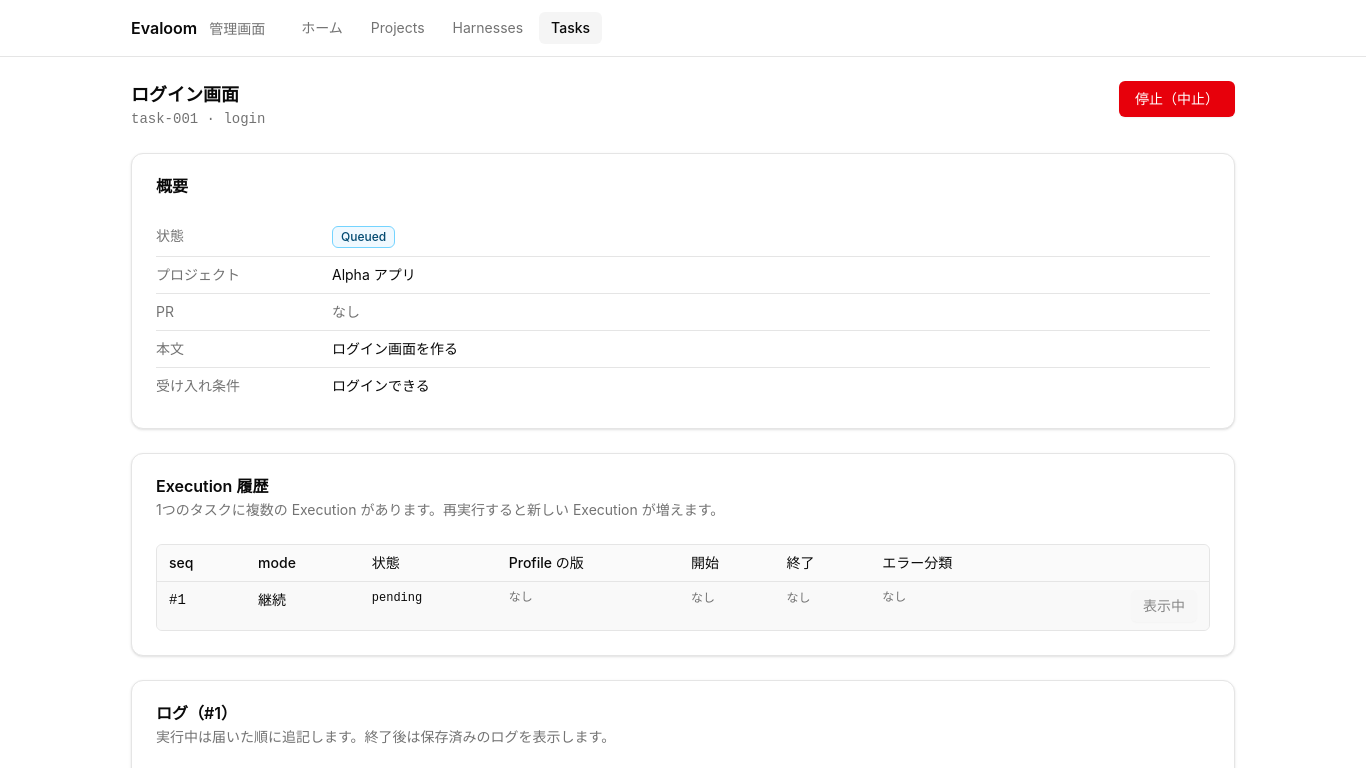
Test: タスク詳細 › 中止を送り、409 なら状態が変わったことを表示して読み直す
The width and height of the screenshot is (1366, 768).
Click the button "停止（中止）" at x=1177, y=99, box [1119, 81, 1235, 117]
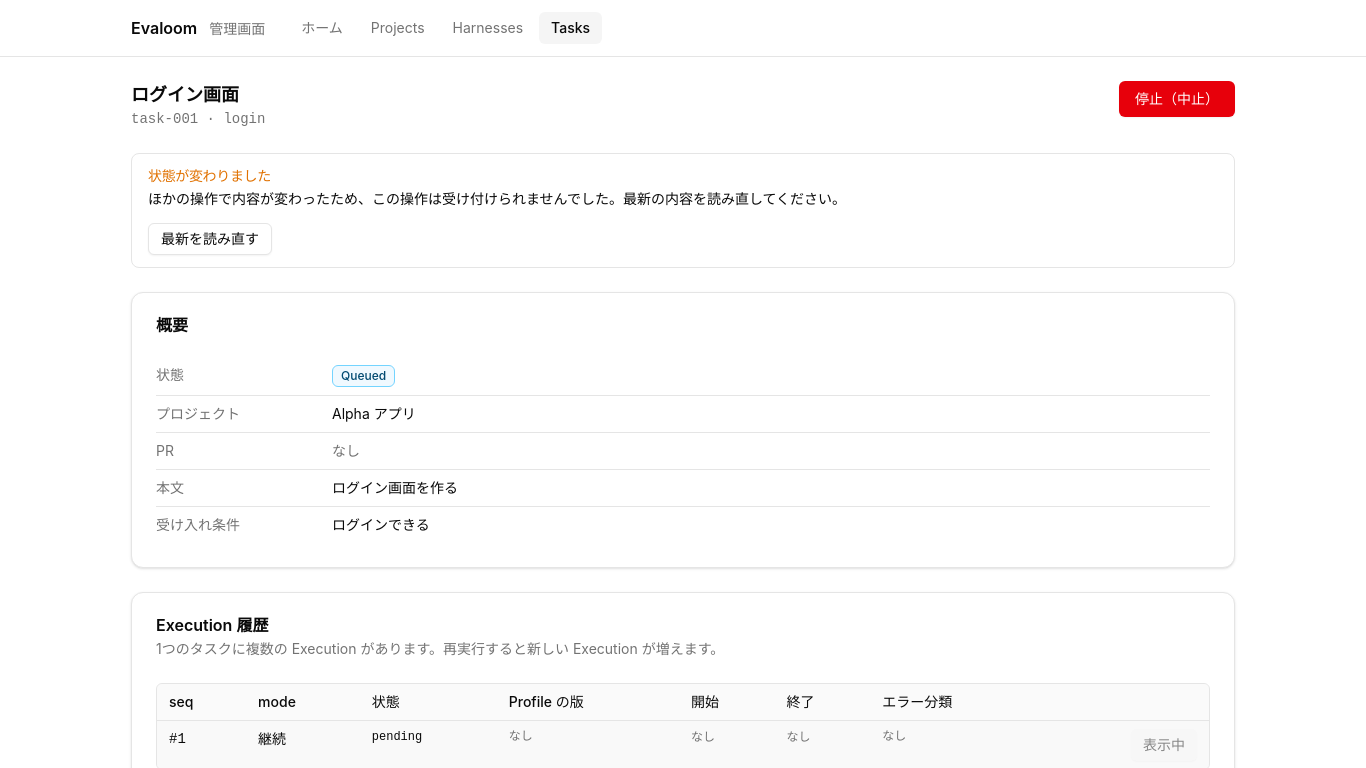
Now the text "状態が変わりました" is shown, box [148, 167, 271, 184]
